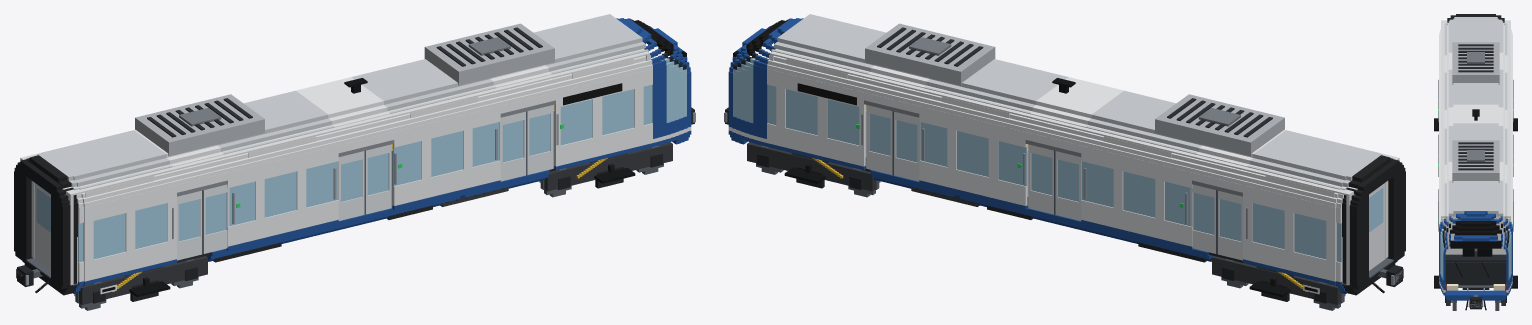
Rendered from azur_front.obj.
3 views of the same model, side by side, from view 1: azimuth 30°, elevation 25°; view 2: azimuth 150°, elevation 25°; view 3: azimuth 270°, elevation 25° (orthographic). The views are drawn at different scales.
Parts seen in each view (by area): view 1: SHELL, SHELL_roof, SHELL_diaphragm, SHELL_ceiling, BOGEY_FRONT, BOGEY_REAR, EXTERNAL_DOOR_15_CG_DR3_TOGGLE_TL_-0.67_X, EXTERNAL_DOOR_9_CG_DR2_TOGGLE_TL_-0.67_X, EXTERNAL_DOOR_10_CG_DR2_TOGGLE_TL_0.67_X, EXTERNAL_DOOR_16_CG_DR3_TOGGLE_TL_0.67_X, EXTERNAL_DOOR_3_CG_DR1_TOGGLE_TL_-0.67_X, EXTERNAL_DOOR_4_CG_DR1_TOGGLE_TL_0.67_X (+6 smaller); view 2: SHELL, SHELL_roof, SHELL_diaphragm, SHELL_ceiling, BOGEY_FRONT, BOGEY_REAR, EXTERNAL_DOOR_18_CG_DL3_TOGGLE_TL_-0.67_X, EXTERNAL_DOOR_12_CG_DL2_TOGGLE_TL_-0.67_X, EXTERNAL_DOOR_13_CG_DL2_TOGGLE_TL_0.67_X, EXTERNAL_DOOR_19_CG_DL3_TOGGLE_TL_0.67_X, EXTERNAL_DOOR_6_CG_DL1_TOGGLE_TL_-0.67_X, EXTERNAL_DOOR_7_CG_DL1_TOGGLE_TL_0.67_X (+6 smaller); view 3: SHELL, SHELL_roof, SHELL_ceiling, SHELL_desk, SHELL_cabwall, SHELL_destbox, BOGEY_FRONT, SHELL_handle, FRAME, HEADLIGHT_1, BOGEY_REAR, BOGEY_FRONT_WHEEL_2 (+1 smaller).
Boxes of the visible parts, x1,y1,x2,y2 form: SHELL: (22, 14, 691, 295); SHELL_roof: (135, 23, 554, 156); SHELL_diaphragm: (14, 159, 68, 289); SHELL_ceiling: (23, 19, 646, 195); BOGEY_FRONT: (544, 142, 672, 191); BOGEY_REAR: (79, 256, 207, 304); EXTERNAL_DOOR_15_CG_DR3_TOGGLE_TL_-0.67_X: (499, 111, 527, 181); EXTERNAL_DOOR_9_CG_DR2_TOGGLE_TL_-0.67_X: (338, 150, 365, 220); EXTERNAL_DOOR_10_CG_DR2_TOGGLE_TL_0.67_X: (365, 144, 391, 214); EXTERNAL_DOOR_16_CG_DR3_TOGGLE_TL_0.67_X: (527, 105, 553, 174); EXTERNAL_DOOR_3_CG_DR1_TOGGLE_TL_-0.67_X: (177, 190, 203, 260); EXTERNAL_DOOR_4_CG_DR1_TOGGLE_TL_0.67_X: (203, 184, 229, 253); SHELL: (728, 14, 1397, 295); SHELL_roof: (865, 23, 1284, 156); SHELL_diaphragm: (1351, 159, 1405, 289); SHELL_ceiling: (773, 19, 1396, 195); BOGEY_FRONT: (747, 142, 875, 191); BOGEY_REAR: (1212, 256, 1340, 304); EXTERNAL_DOOR_18_CG_DL3_TOGGLE_TL_-0.67_X: (892, 111, 920, 181); EXTERNAL_DOOR_12_CG_DL2_TOGGLE_TL_-0.67_X: (1054, 150, 1081, 220); EXTERNAL_DOOR_13_CG_DL2_TOGGLE_TL_0.67_X: (1028, 144, 1054, 214); EXTERNAL_DOOR_19_CG_DL3_TOGGLE_TL_0.67_X: (866, 105, 892, 174); EXTERNAL_DOOR_6_CG_DL1_TOGGLE_TL_-0.67_X: (1216, 190, 1242, 260); EXTERNAL_DOOR_7_CG_DL1_TOGGLE_TL_0.67_X: (1190, 184, 1216, 253); SHELL: (1439, 14, 1512, 300); SHELL_roof: (1452, 42, 1499, 182); SHELL_ceiling: (1441, 21, 1510, 215); SHELL_desk: (1445, 248, 1506, 285); SHELL_cabwall: (1441, 215, 1510, 254); SHELL_destbox: (1450, 240, 1501, 248); BOGEY_FRONT: (1434, 275, 1517, 305); SHELL_handle: (1438, 79, 1513, 231); FRAME: (1465, 294, 1486, 310); HEADLIGHT_1: (1447, 284, 1504, 290); BOGEY_REAR: (1434, 118, 1517, 131); BOGEY_FRONT_WHEEL_2: (1452, 288, 1499, 310).
Size of the model in its own units: 18.14 by 3.91 by 2.84.
1 material, 1 textured.
